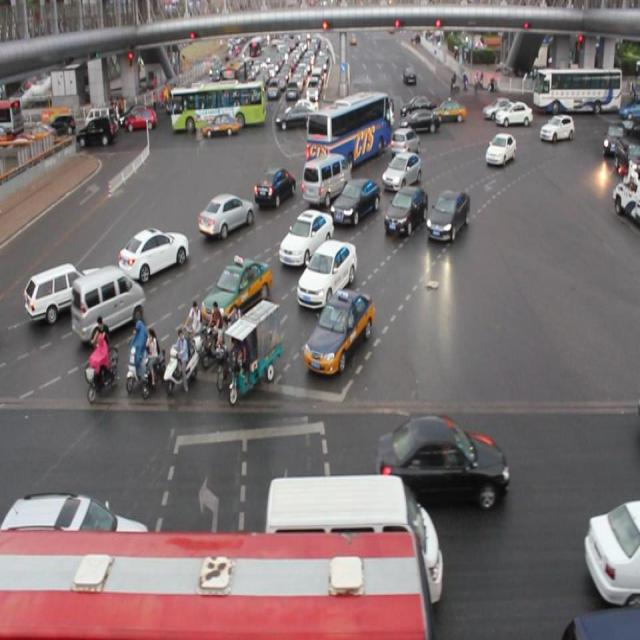car: (375, 414, 508, 512), (0, 488, 150, 560), (304, 288, 375, 377), (582, 500, 640, 604), (25, 263, 109, 324), (200, 253, 271, 324), (298, 240, 358, 308), (120, 226, 188, 280), (277, 206, 334, 267), (198, 190, 254, 238), (330, 176, 380, 228), (426, 187, 470, 244), (382, 188, 429, 235), (253, 167, 296, 208), (380, 154, 423, 190), (484, 131, 514, 165), (538, 114, 574, 142), (390, 125, 420, 156)
truck: (265, 475, 443, 604), (72, 266, 145, 342), (301, 152, 351, 207)
van: (1, 525, 432, 640), (306, 90, 391, 172)
